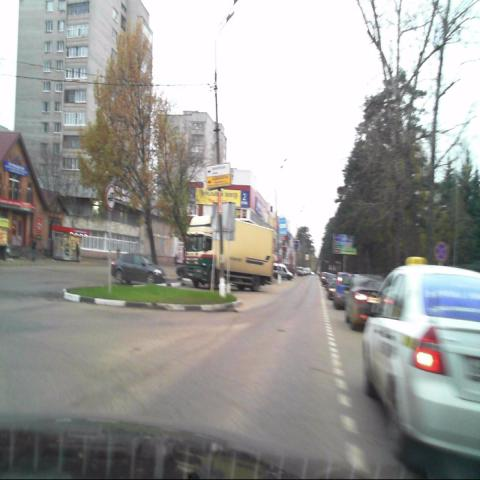3_27: (434, 241, 448, 265)
